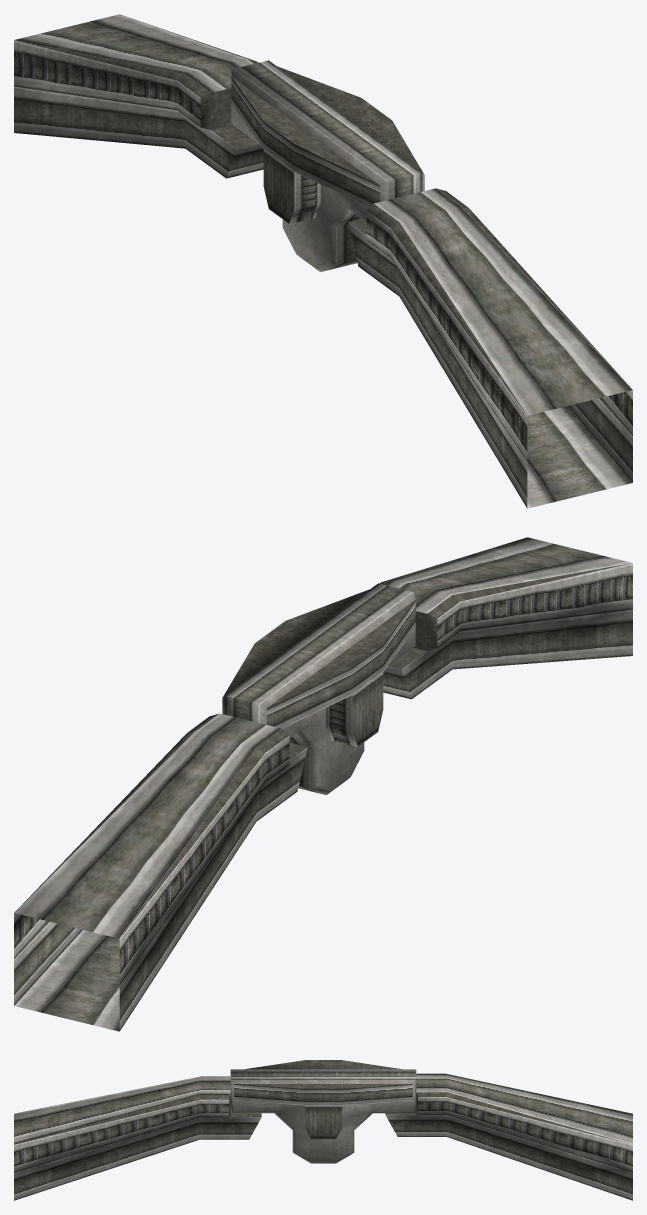
Rendered from DWARF_PALACE_MAINHALL_COLUMN_DEBREE02.fbx.
The picture shows the model from 3 angles, top to bottom: view 1: azimuth 30°, elevation 25°; view 2: azimuth 150°, elevation 25°; view 3: azimuth 270°, elevation 25°; orthographic projection. The views are drawn at different scales.
Parts seen in each view (by area): view 1: DWARF_PALACE_MAINHALL_COLUMN_DEBREE02; view 2: DWARF_PALACE_MAINHALL_COLUMN_DEBREE02; view 3: DWARF_PALACE_MAINHALL_COLUMN_DEBREE02.
Boxes of the visible parts, bbox=[...] form: DWARF_PALACE_MAINHALL_COLUMN_DEBREE02: bbox=[14, 14, 632, 508]; DWARF_PALACE_MAINHALL_COLUMN_DEBREE02: bbox=[14, 537, 632, 1031]; DWARF_PALACE_MAINHALL_COLUMN_DEBREE02: bbox=[14, 1060, 632, 1200].
Bounding box in the file's own units: 23896 × 40000 × 200207.
4 materials, 4 textured.
